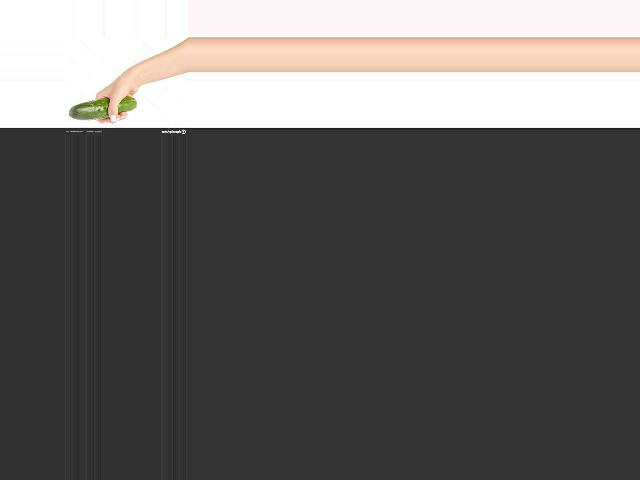cucumber: (68, 96, 135, 120)
